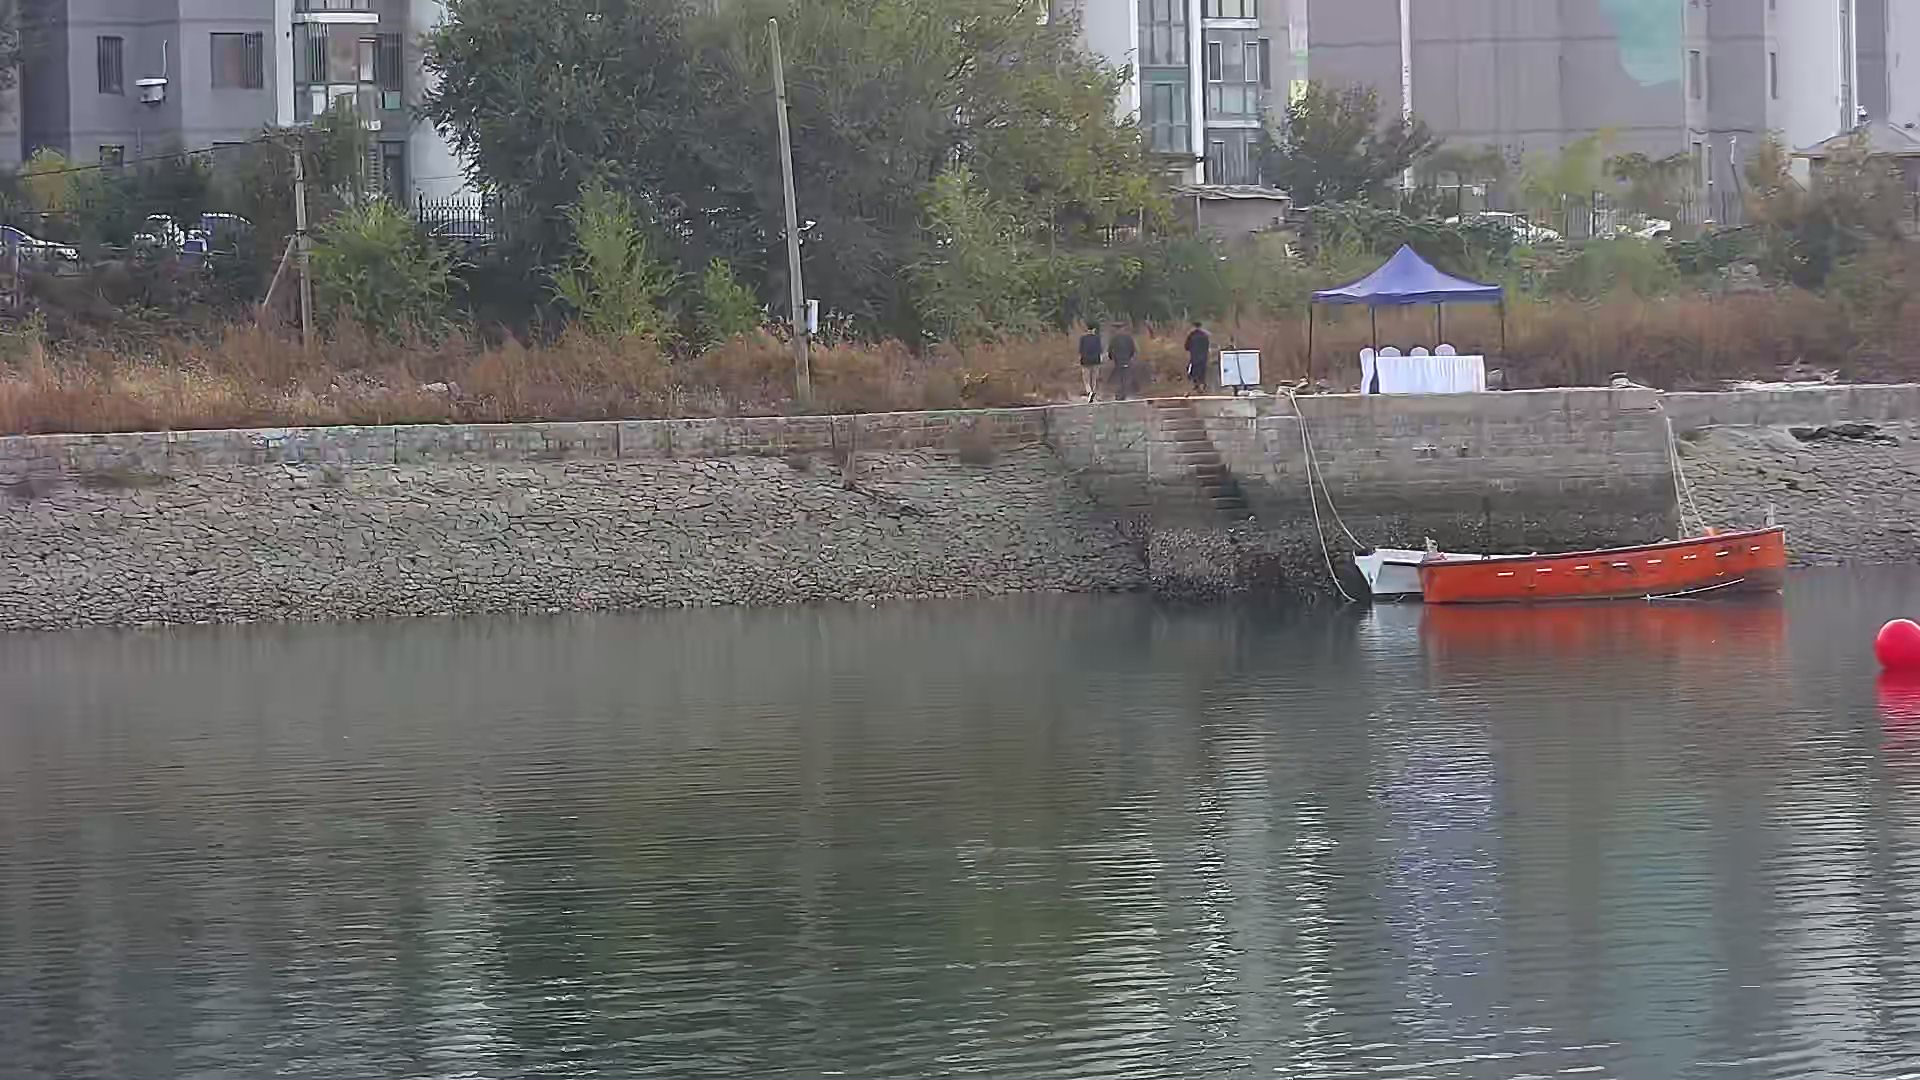ball: (1874, 617, 1920, 670)
boat: (1416, 530, 1801, 601)
